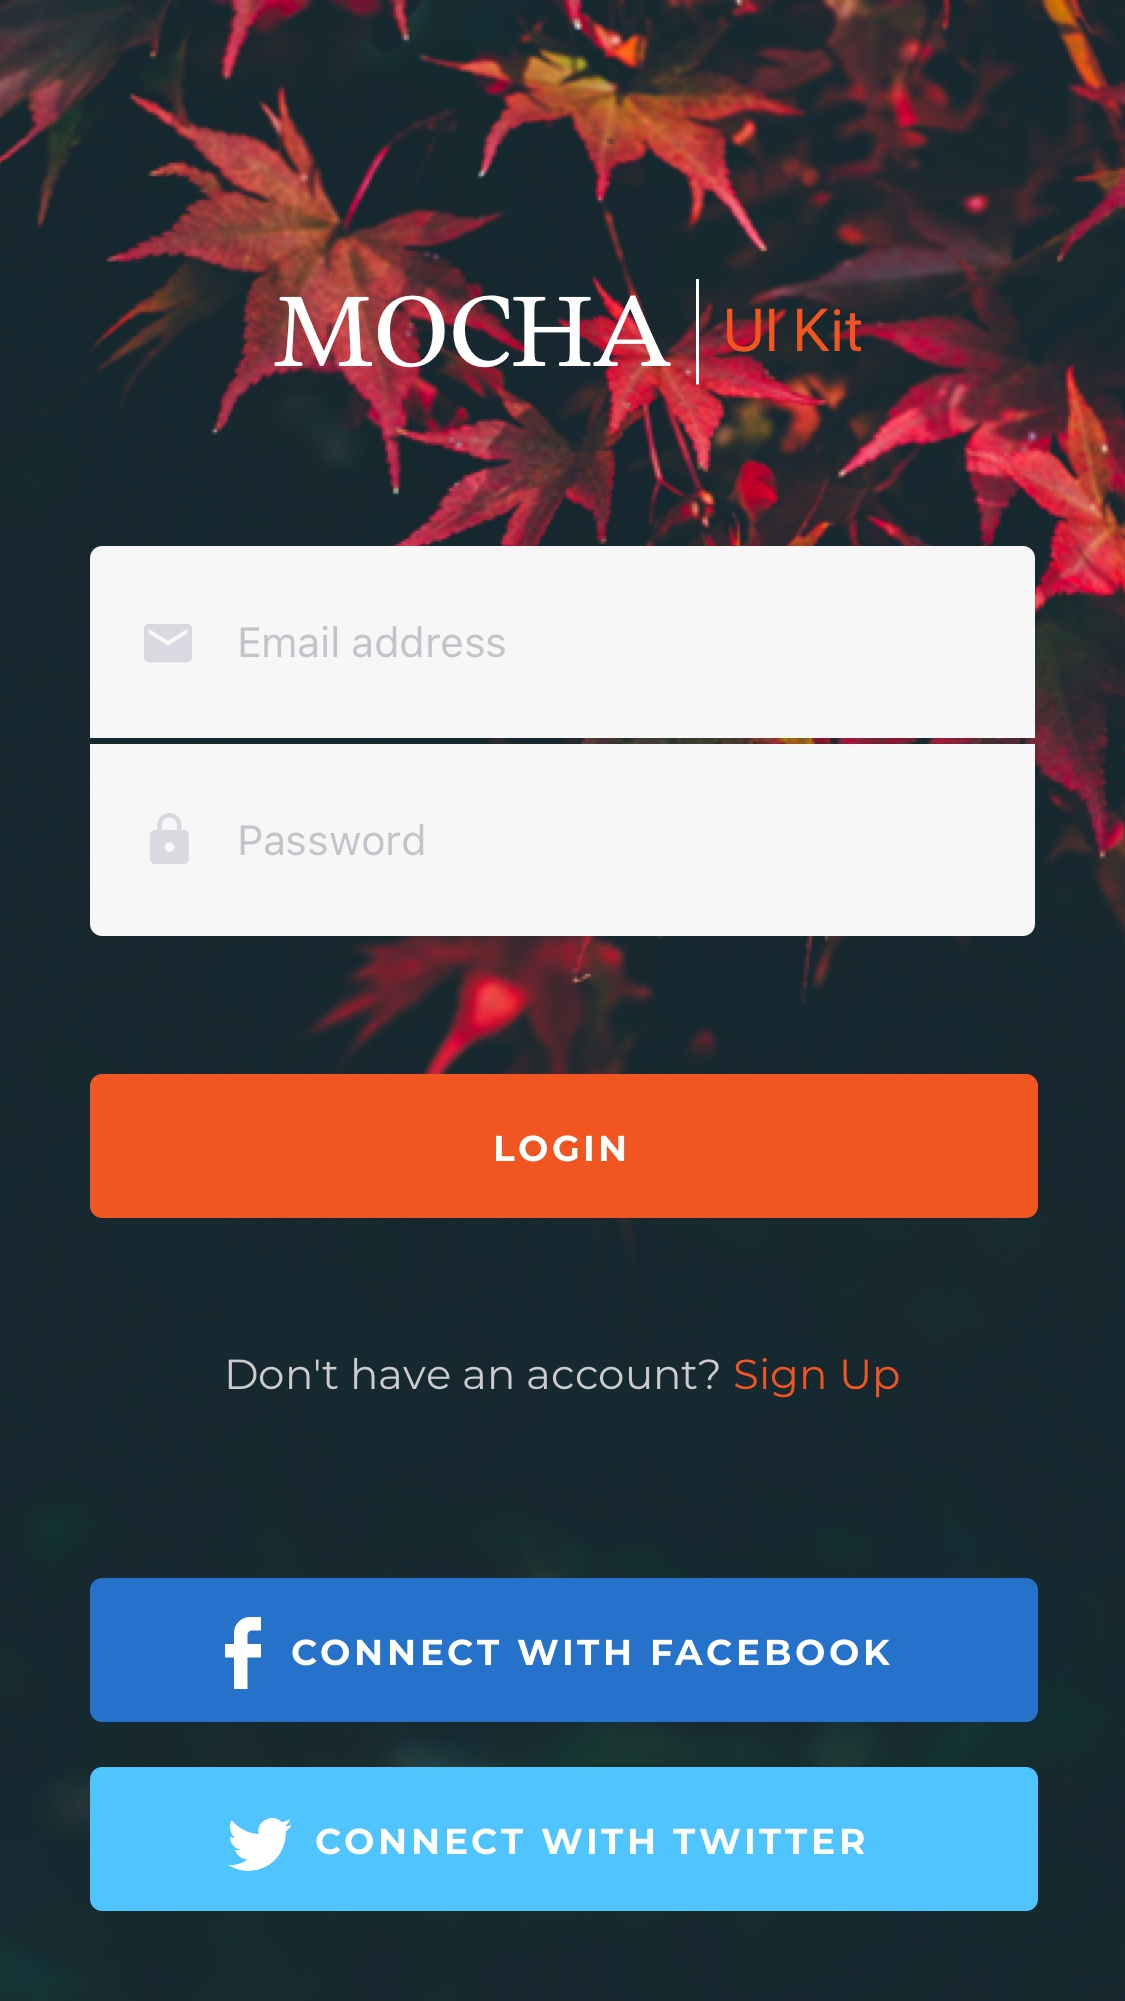BackgroundImage: (1, 1, 1125, 2001)
EditText: (91, 546, 1036, 739), (91, 744, 1036, 937)
Icon: (150, 814, 190, 864), (144, 624, 194, 662)
Text: (273, 295, 672, 368), (228, 1356, 900, 1399), (240, 627, 505, 660), (727, 308, 863, 355), (240, 823, 424, 858)
TextButton: (91, 1576, 1038, 1723), (91, 1073, 1038, 1219), (91, 1766, 1038, 1912)
